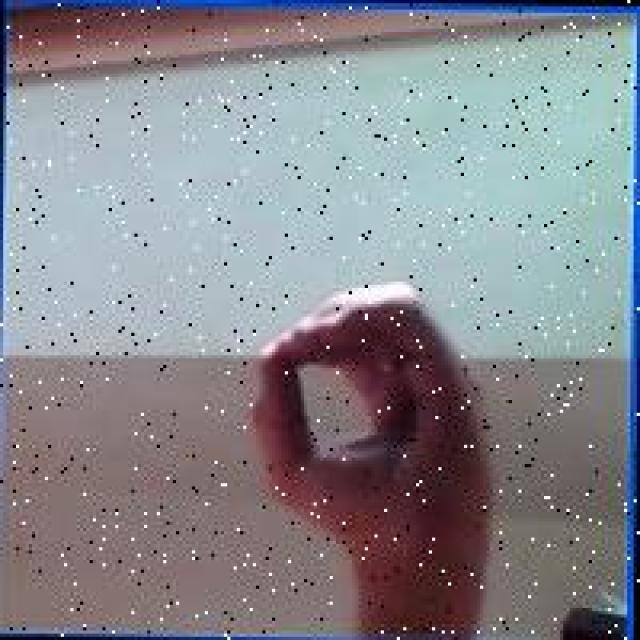O: (242, 269, 491, 579)
